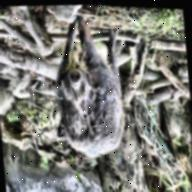boar: (49, 6, 164, 172)
